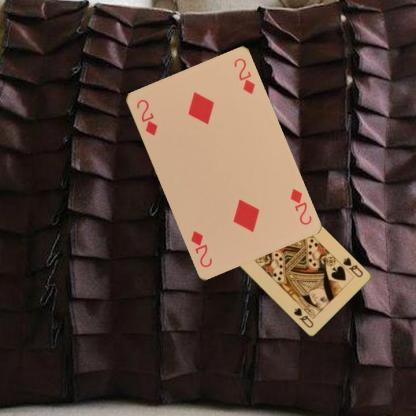2d: (286, 186, 312, 226), (134, 96, 158, 137)
Qs: (340, 254, 364, 278)
